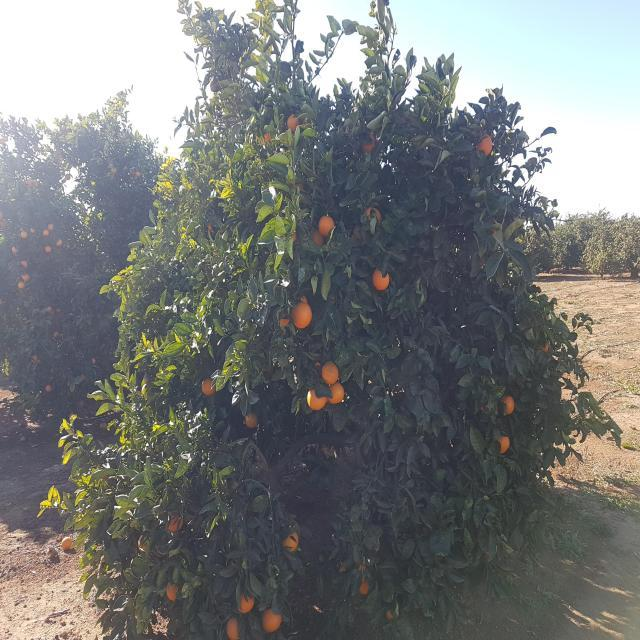Jeruk Sudah Matang: (294, 300, 313, 328), (262, 612, 282, 632), (324, 362, 341, 385), (374, 271, 392, 292), (307, 394, 326, 412), (285, 116, 301, 134), (364, 208, 383, 223), (226, 620, 240, 640), (478, 138, 494, 155), (321, 216, 336, 234), (333, 386, 348, 404), (503, 395, 516, 415), (364, 133, 376, 154), (240, 597, 254, 614), (166, 585, 180, 601), (258, 134, 274, 148), (312, 230, 324, 248), (202, 381, 216, 396), (284, 538, 298, 552), (244, 414, 258, 428), (500, 435, 510, 452), (168, 520, 182, 532), (278, 318, 289, 330), (362, 582, 372, 595), (386, 612, 396, 622), (563, 390, 573, 400), (140, 542, 149, 552), (360, 562, 368, 572), (556, 443, 566, 451), (60, 420, 68, 428)
